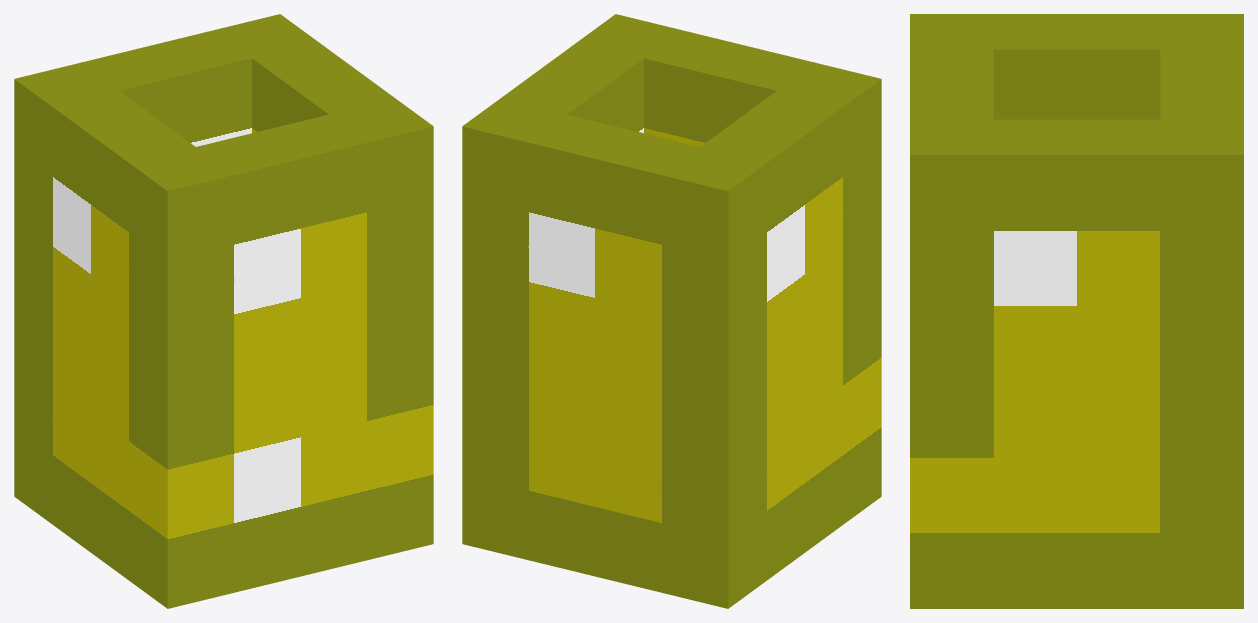
File: 黄色皮革靴子.gltf
3 renders of one model, left to right at view 1: azimuth 30°, elevation 25°; view 2: azimuth 150°, elevation 25°; view 3: azimuth 270°, elevation 25°, orthographic. The views are drawn at different scales.
Parts seen in each view (by area): view 1: Object; view 2: Object; view 3: Object.
Boxes of the visible parts, box(x1,y1,x2,y2) form: Object: box(14, 14, 433, 608); Object: box(462, 14, 881, 608); Object: box(910, 14, 1243, 608).
Bounding box in the file's own units: 4 × 6 × 4.
1 material, 1 textured.
